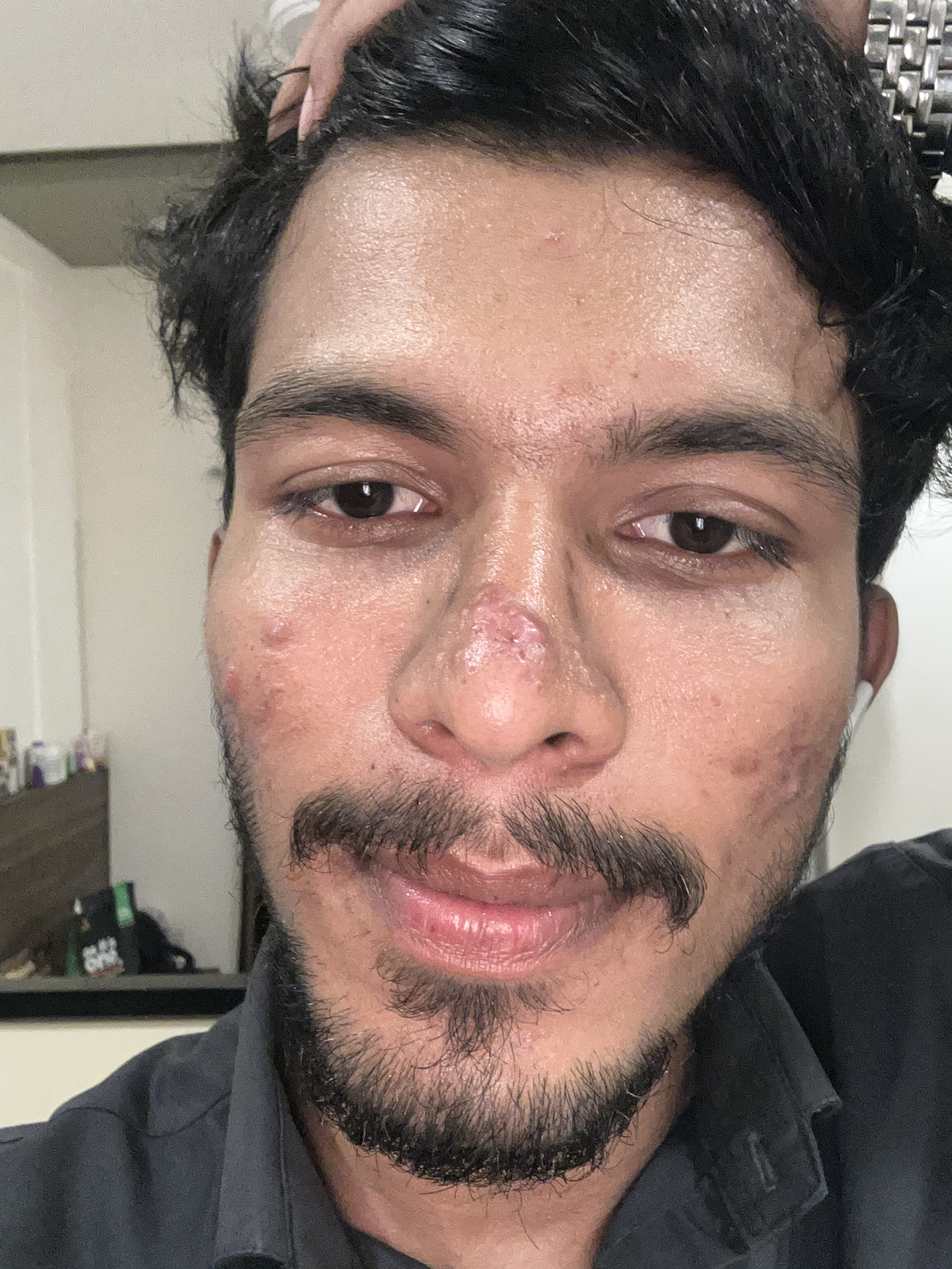closed_comedone: (497, 421, 584, 466)
nodule: (514, 609, 555, 667), (254, 612, 294, 654), (448, 637, 479, 680), (214, 659, 243, 698)
